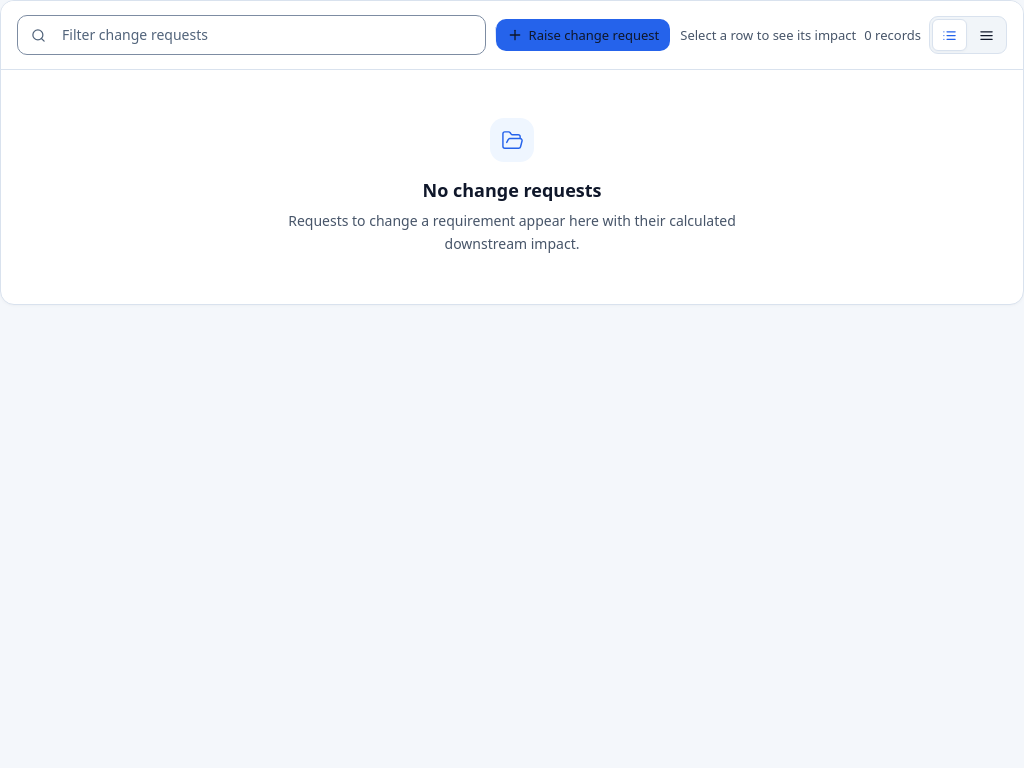
Scenario: change requests › raises a change against a chosen requirement, leaving the reference to the API
Click the button named "Raise change request" at (583, 35), box [494, 17, 672, 53]
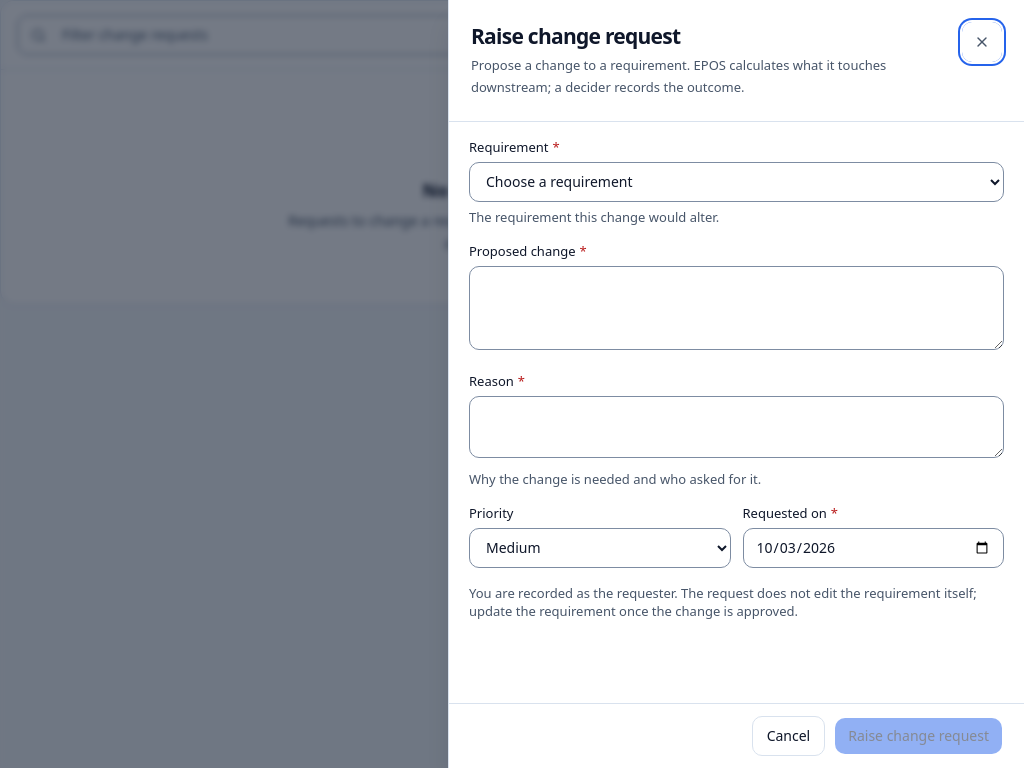
Select "REQ-2001 · Boot within two seconds" in the dropdown labelled "Requirement" at (736, 182), box [469, 162, 1004, 202]
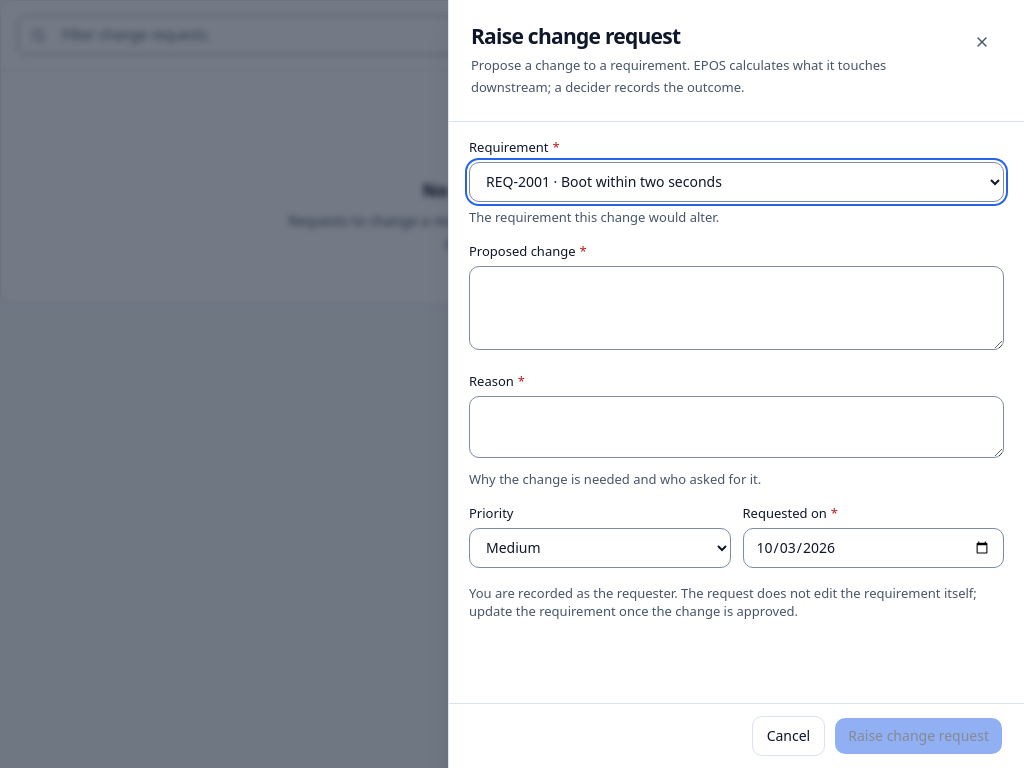
Type "Boot within one and a half seconds" into the text box labelled "Proposed change" at (736, 308), box [469, 266, 1004, 350]
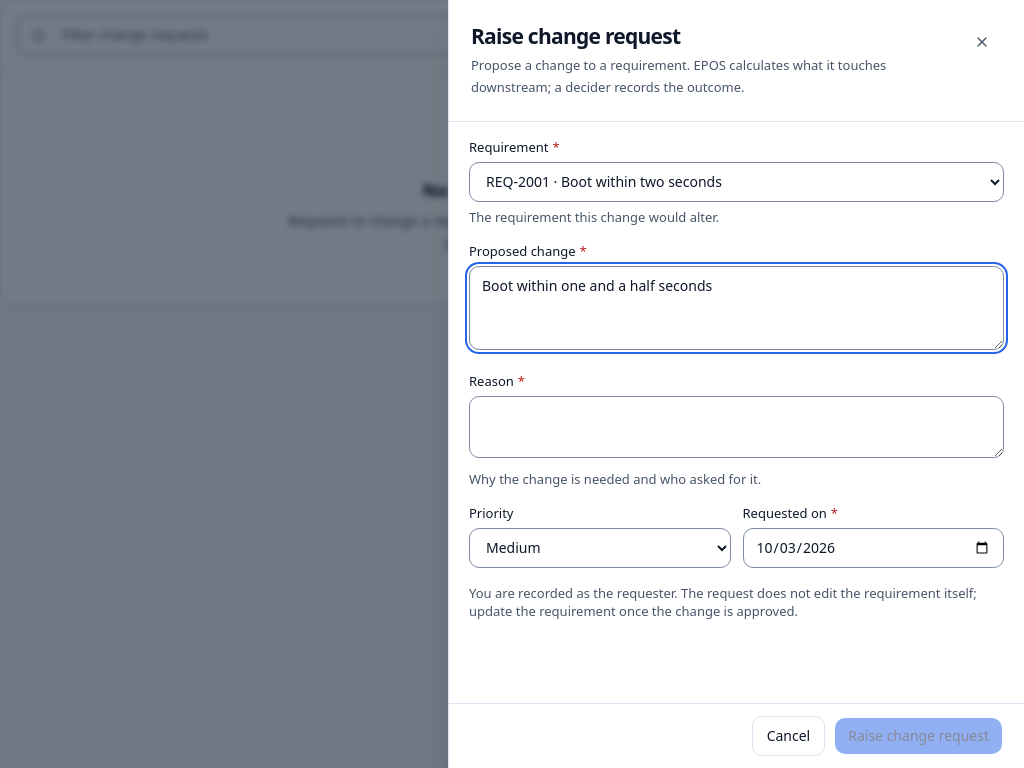
Type "Customer review feedback" into the text box labelled "Reason" at (736, 426), box [469, 396, 1004, 458]
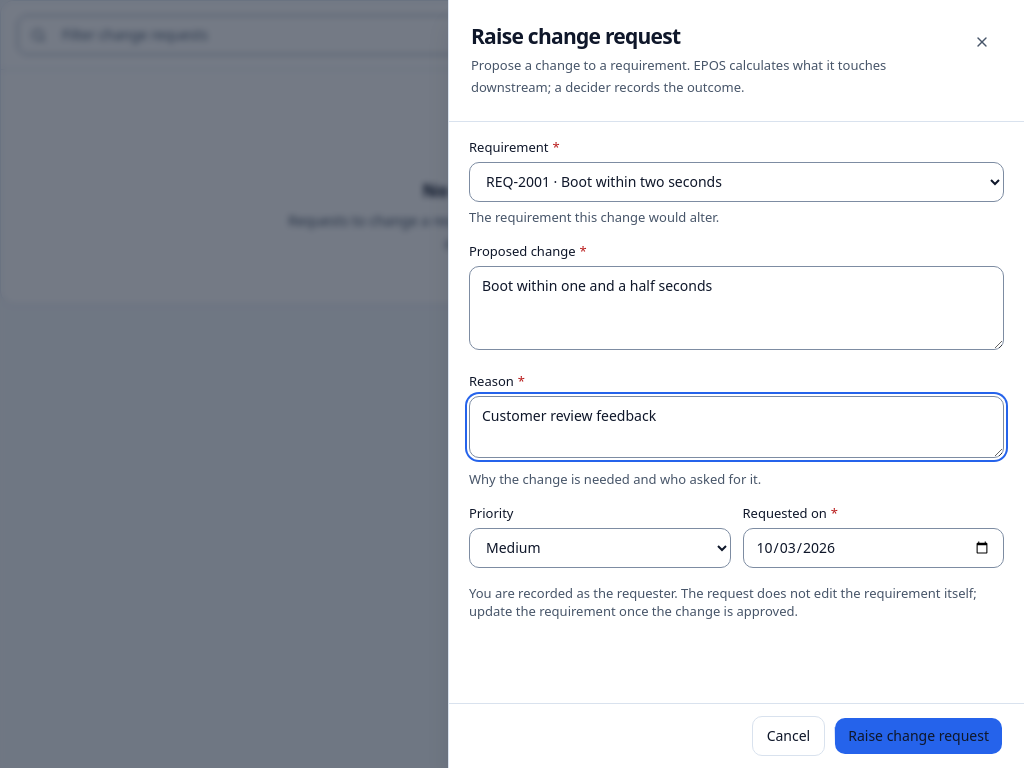
Click the 2nd button named "Raise change request" at (919, 736), box [833, 716, 1004, 756]
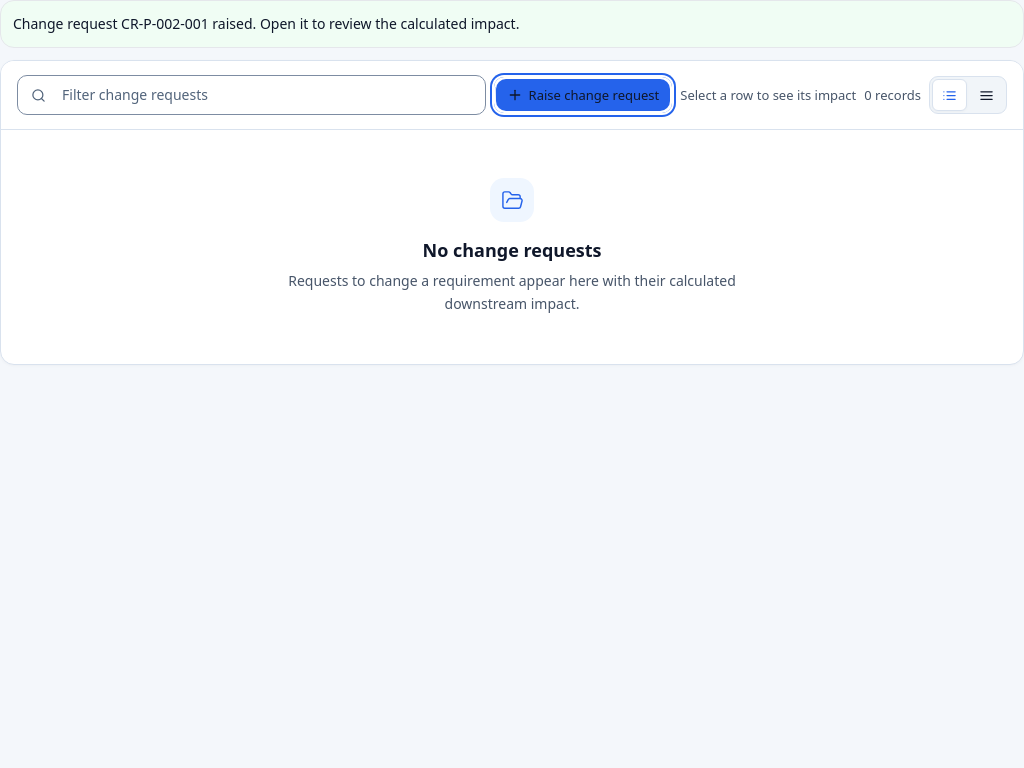
Expected: the text "Change request CR-P-002-001 raised. Open it to review the calculated impact." is shown, [0, 0, 1023, 48]
